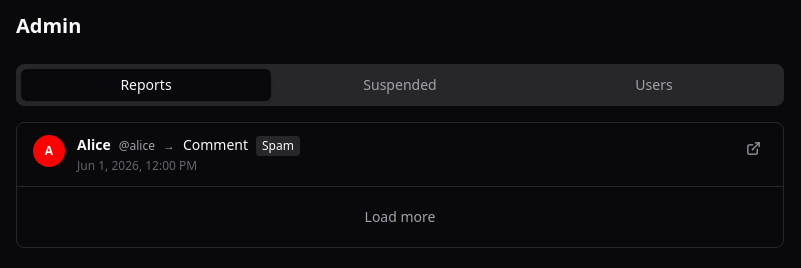
Scenario: Admin — Reports tab › clicking Load more appends the next page
Step 1. Click the button "Load more" → point(400, 217), box top-left (33, 199), bottom-right (767, 235)
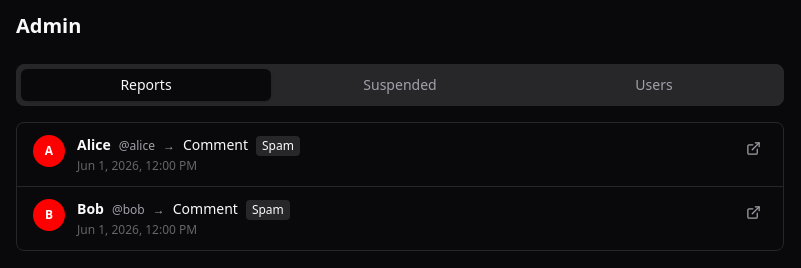
Expected: the link "Alice" is shown, top-left (77, 135), bottom-right (111, 155)
Result: the link "Bob" is shown at top-left (77, 199), bottom-right (104, 219)
